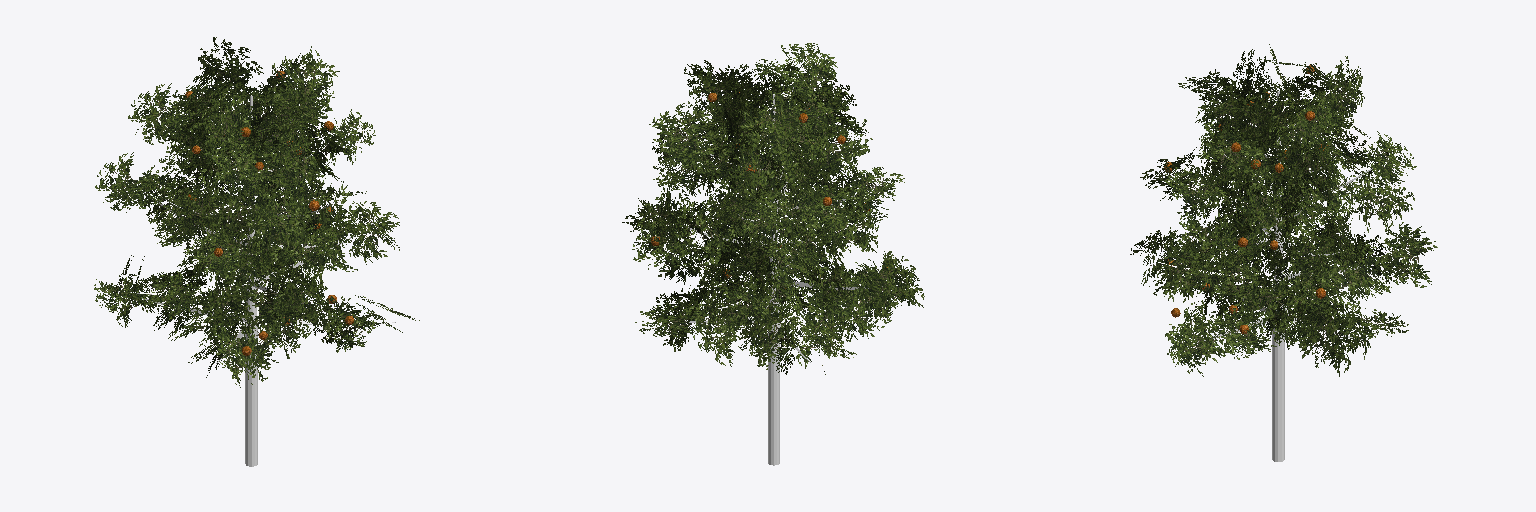
The picture shows the model from 3 angles: view 1: azimuth 30°, elevation 25°; view 2: azimuth 150°, elevation 25°; view 3: azimuth 270°, elevation 25°; orthographic projection.
Parts seen in each view (by area): view 1: Foliage__leafcard, Bark, Foliage; view 2: Foliage__leafcard, Bark; view 3: Foliage__leafcard, Bark, Foliage.
Boxes of the visible parts, x1=… form: Foliage__leafcard: x1=94, y1=37, x2=419, y2=387; Bark: x1=118, y1=78, x2=395, y2=466; Foliage: x1=185, y1=71, x2=353, y2=355; Foliage__leafcard: x1=622, y1=43, x2=924, y2=374; Bark: x1=637, y1=87, x2=905, y2=465; Foliage__leafcard: x1=1130, y1=44, x2=1437, y2=376; Bark: x1=1152, y1=76, x2=1420, y2=461; Foliage: x1=1164, y1=65, x2=1327, y2=333.
Size of the model in its own units: 5.29 by 7 by 4.91.
3 materials, 1 textured.